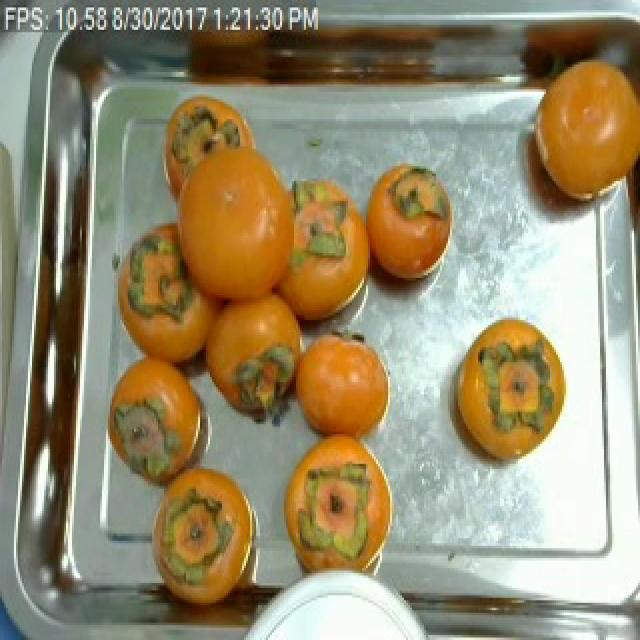Fruit: (150, 82, 302, 275), (516, 42, 640, 228), (138, 452, 268, 625), (442, 310, 576, 474), (100, 342, 232, 506), (268, 432, 404, 590), (278, 315, 398, 464), (354, 151, 464, 300)
